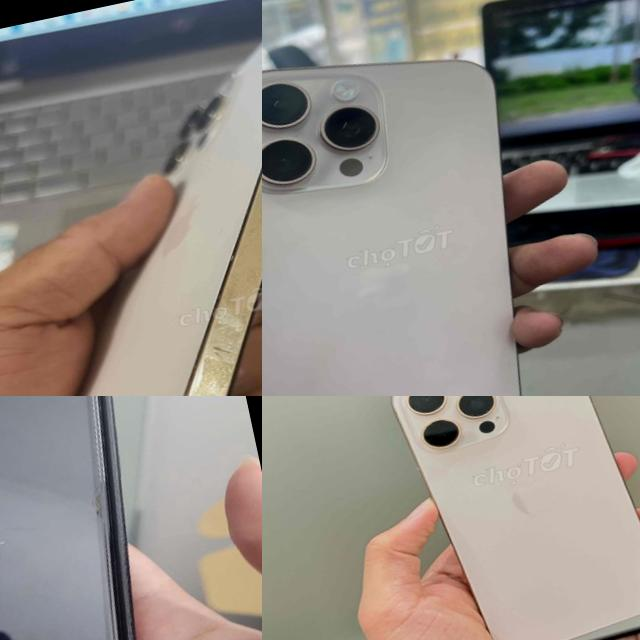gen_12_13: (0, 0, 262, 396)
gen_16: (262, 60, 520, 396), (391, 396, 640, 640)
gen_x_xs: (0, 396, 135, 640)
